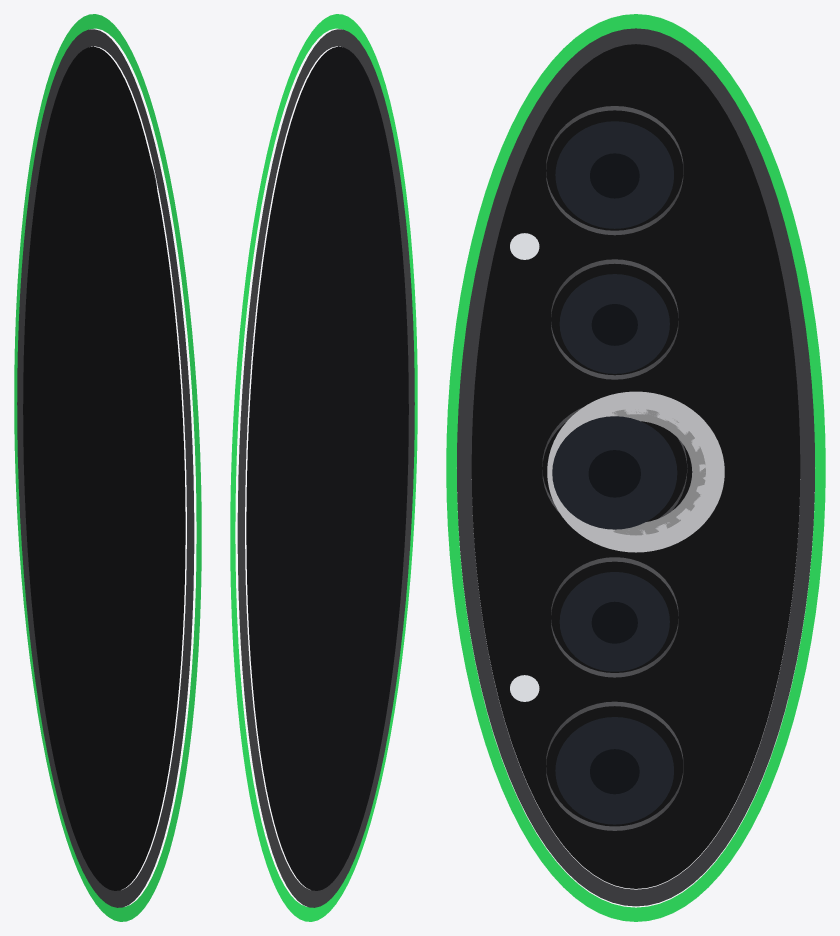
The model's file is head_sensor_panel.glb.
3 views of the same model, side by side, from view 1: azimuth 30°, elevation 25°; view 2: azimuth 150°, elevation 25°; view 3: azimuth 270°, elevation 25° (orthographic).
Parts seen in each view (by area): view 1: head_sensor_panel; view 2: head_sensor_panel; view 3: head_sensor_panel.
Boxes of the visible parts, x1,y1,x2,y2 form: head_sensor_panel: (14,14,201,921); head_sensor_panel: (230,14,417,921); head_sensor_panel: (446,14,825,921).
Bounding box in the file's own units: 0.0034 × 0.189 × 0.0716.
Materials: 1 (1 with a texture image).
